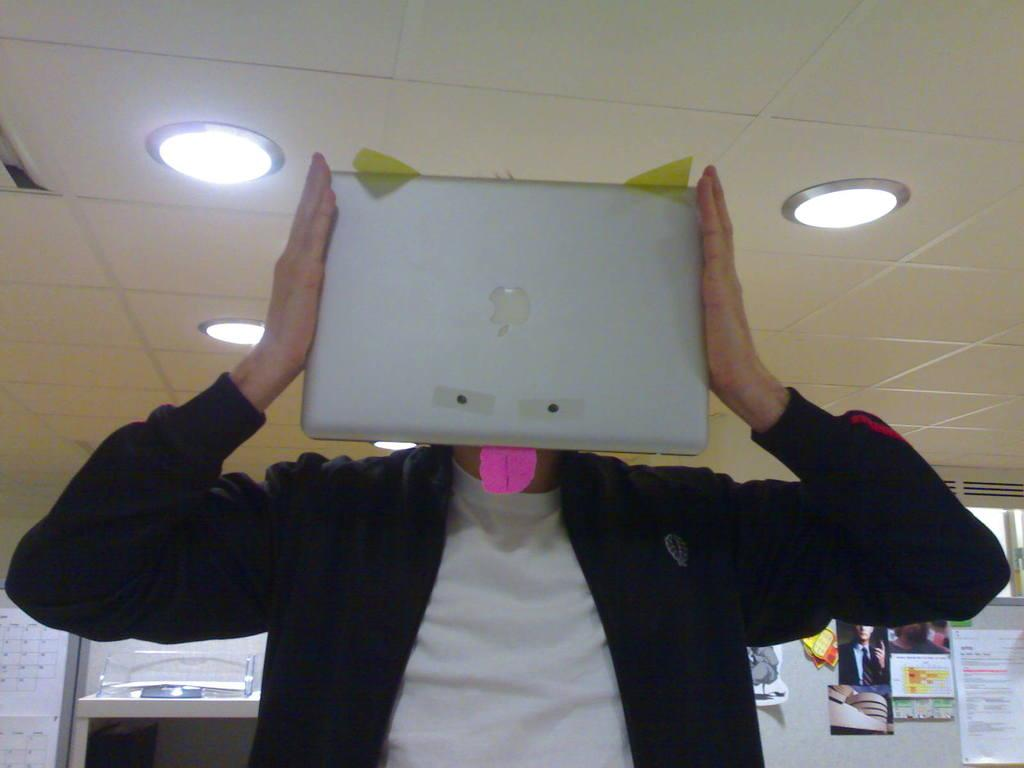Laptop: (268, 175, 758, 472)
